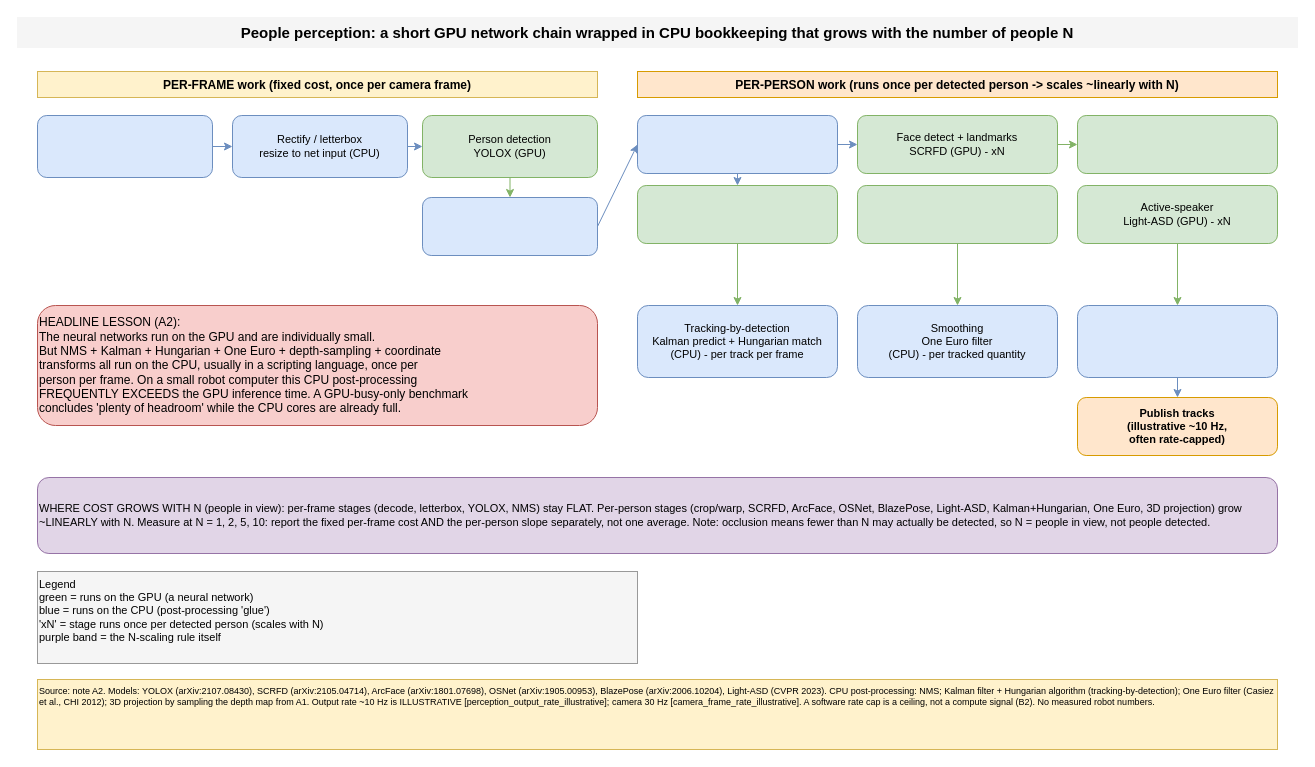
This 1315x767 diagram has some shape labels left out. The shapes that lost their labels are listed below. From the top down, each one's centre as x and y in pixels, then its label:
At (124,146): "Decode frame (CPU)".
At (737,144): "Crop / warp per person (CPU) - xN".
At (1177,144): "Face recognition ArcFace embedding (GPU) - xN".
At (510,226): "NMS de-dup boxes (CPU)".
At (737,214): "Body re-ID OSNet embedding (GPU) - xN".
At (957,214): "2D pose BlazePose (GPU) - xN".
At (1177,341): "3D projection sample depth map at pixels (CPU) - per person".
